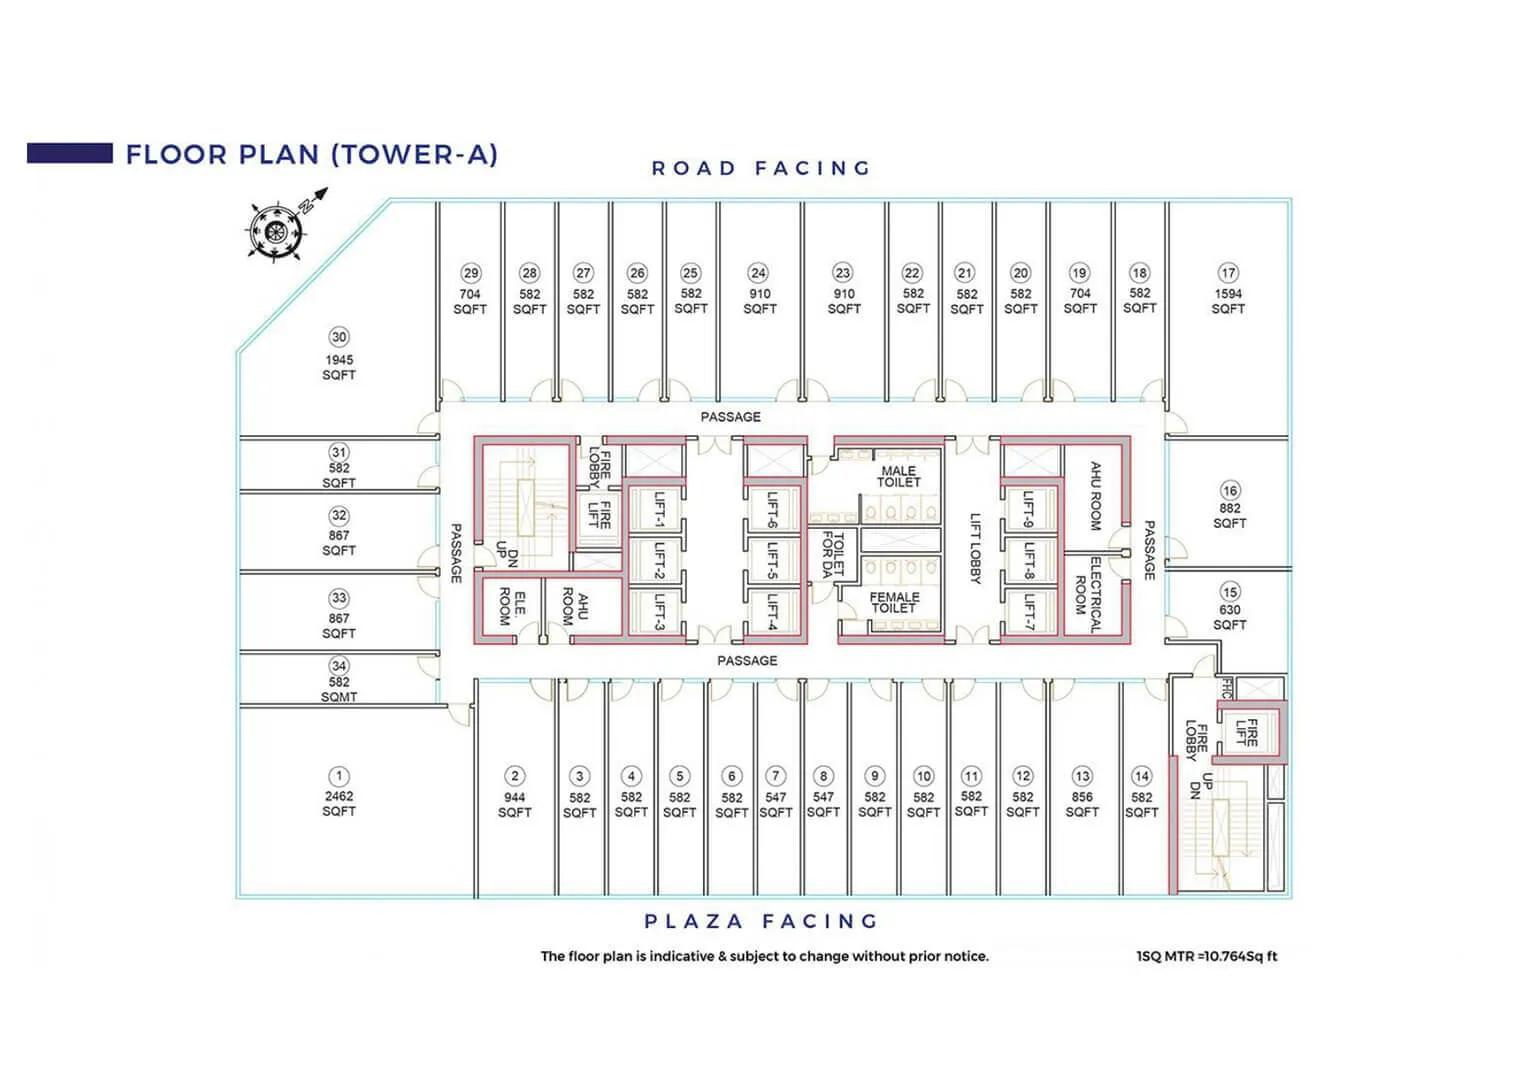room: (238, 706, 476, 898), (1167, 200, 1289, 436), (1003, 441, 1127, 639), (477, 679, 556, 896), (803, 202, 887, 400), (719, 200, 802, 400), (1167, 438, 1291, 569), (803, 525, 945, 639), (238, 492, 438, 573), (238, 572, 437, 652), (1049, 678, 1121, 896), (1165, 568, 1291, 677), (437, 200, 503, 402), (1049, 202, 1113, 400), (479, 438, 573, 574), (804, 436, 943, 525), (236, 436, 441, 492), (1121, 680, 1174, 895), (655, 679, 706, 896), (994, 202, 1050, 399), (556, 679, 607, 898), (899, 679, 949, 896), (1113, 201, 1168, 400), (504, 201, 558, 401), (238, 651, 438, 705), (558, 201, 611, 400), (607, 680, 656, 898), (941, 202, 995, 400), (706, 680, 755, 896), (611, 200, 664, 401), (998, 680, 1047, 895), (949, 680, 998, 895), (850, 681, 899, 895), (888, 202, 941, 401), (755, 679, 803, 896), (666, 201, 718, 400), (802, 679, 849, 896), (478, 573, 625, 638), (625, 482, 685, 535), (625, 584, 684, 638), (746, 480, 804, 534), (746, 586, 803, 639), (745, 534, 804, 586), (625, 534, 684, 586), (624, 439, 682, 483), (746, 441, 805, 479)
